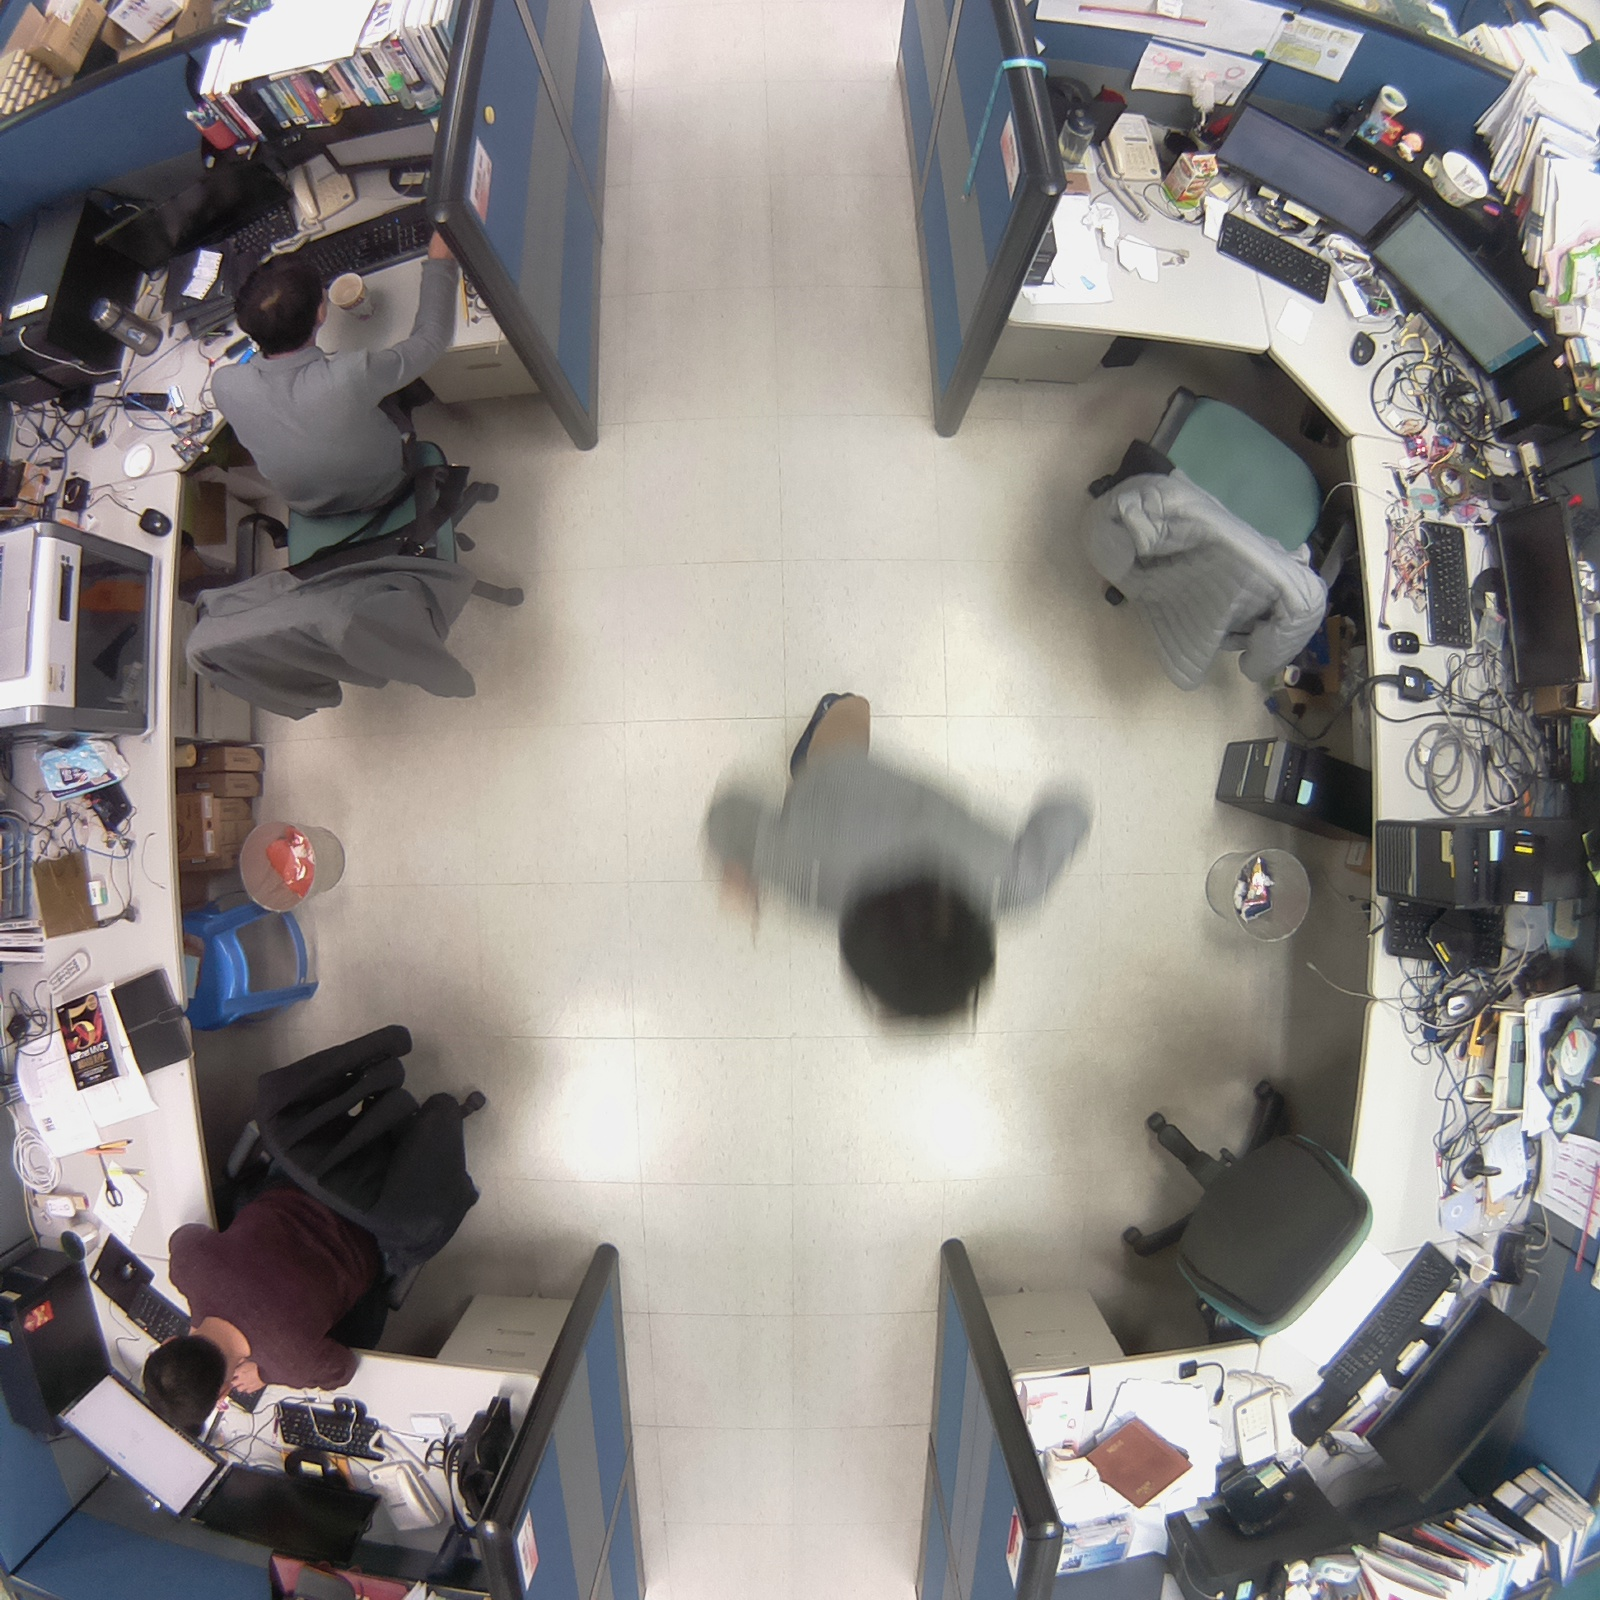chair: (1070, 371, 1341, 711), (1115, 1070, 1393, 1360)
sitting: (199, 212, 470, 527), (138, 1178, 393, 1434)
walking: (689, 659, 1115, 1058)
